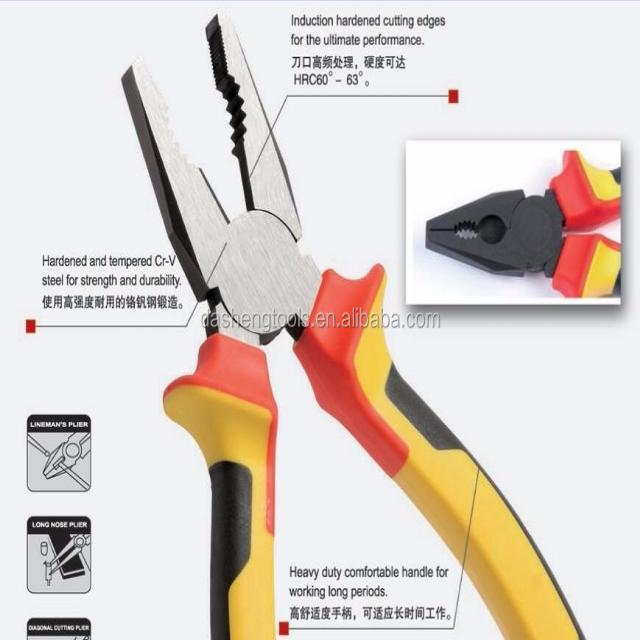pliers: (115, 7, 590, 640), (418, 144, 624, 302)
